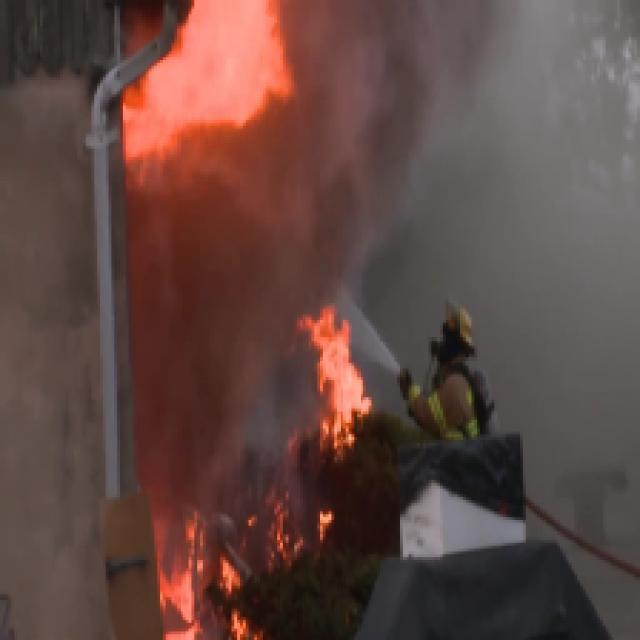Fire: (109, 297, 478, 640), (89, 0, 348, 186)
Smoke: (171, 52, 640, 268)
